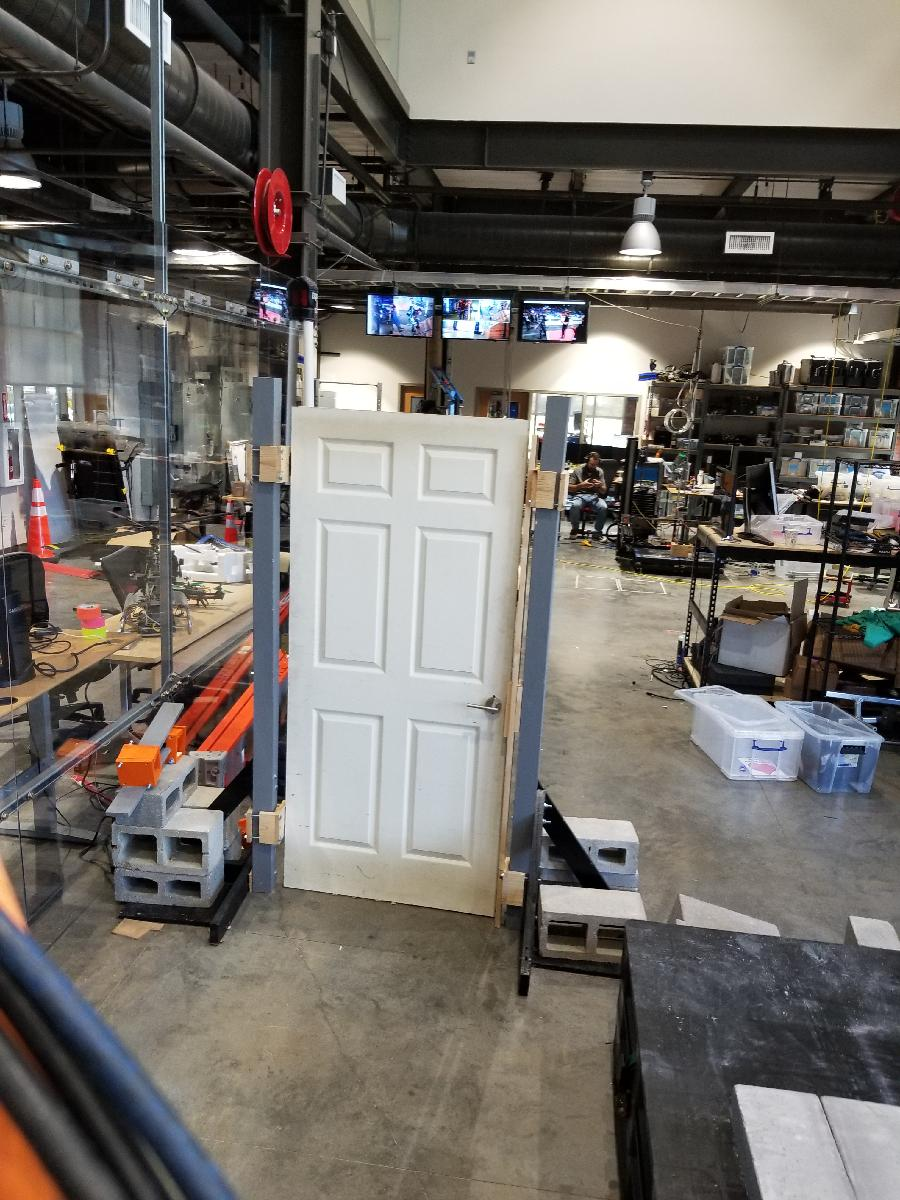door: (282, 398, 536, 934)
doorHandle: (456, 684, 503, 722)
